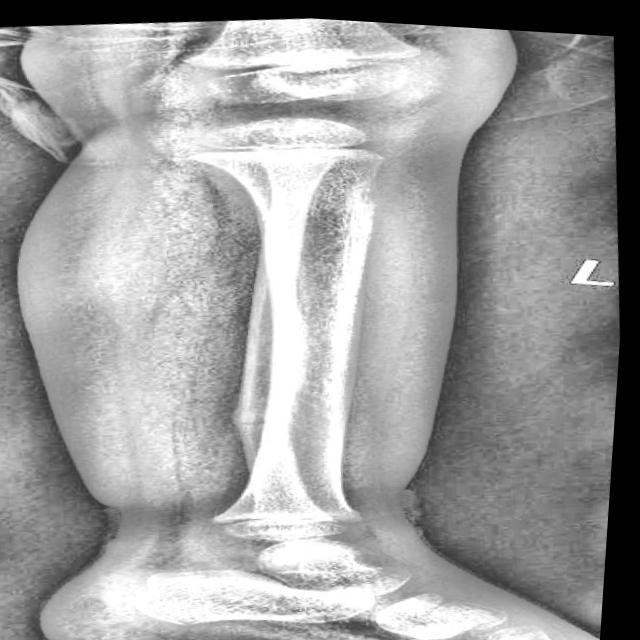fracture: (237, 410, 287, 426)
